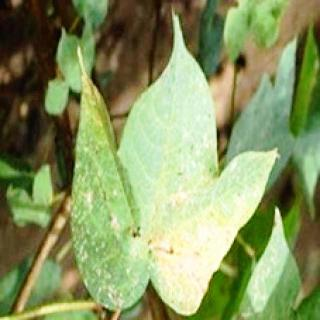grey mildew: (69, 39, 281, 317)
